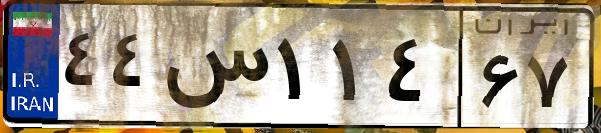1: (270, 28, 330, 110), (330, 28, 385, 110)
4: (385, 28, 445, 110), (57, 26, 110, 100), (110, 28, 158, 98)
6: (475, 38, 525, 113)
7: (525, 38, 570, 115)
س: (158, 20, 270, 120)
